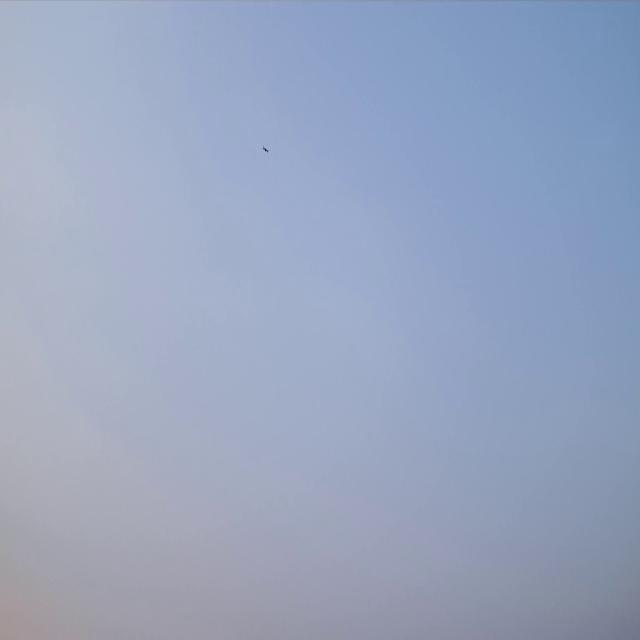UAV: (263, 148, 267, 152)
